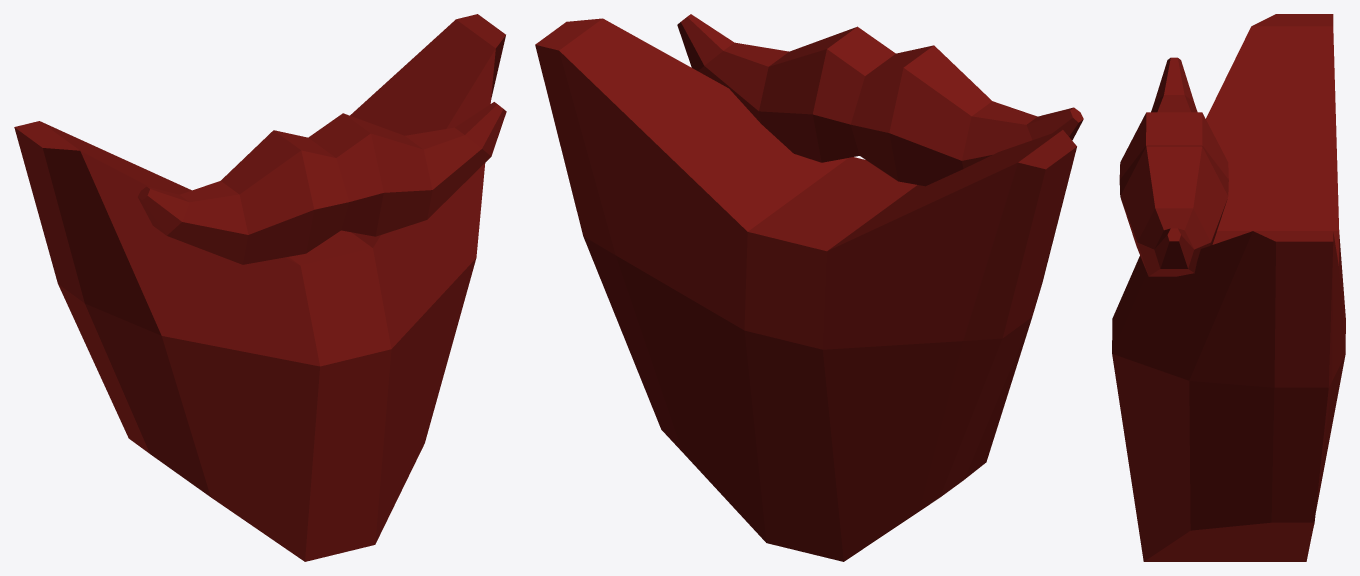
Rendered from Barba.fbx.
3 renders of one model, left to right at view 1: azimuth 30°, elevation 25°; view 2: azimuth 150°, elevation 25°; view 3: azimuth 270°, elevation 25°, orthographic. The views are drawn at different scales.
Parts seen in each view (by area): view 1: Barba; view 2: Barba; view 3: Barba.
Boxes of the visible parts, x1,y1,x2,y2 form: Barba: [14, 14, 506, 561]; Barba: [535, 14, 1083, 561]; Barba: [1112, 14, 1345, 561].
Size of the model in its own units: 19.7 by 16.82 by 8.55.
